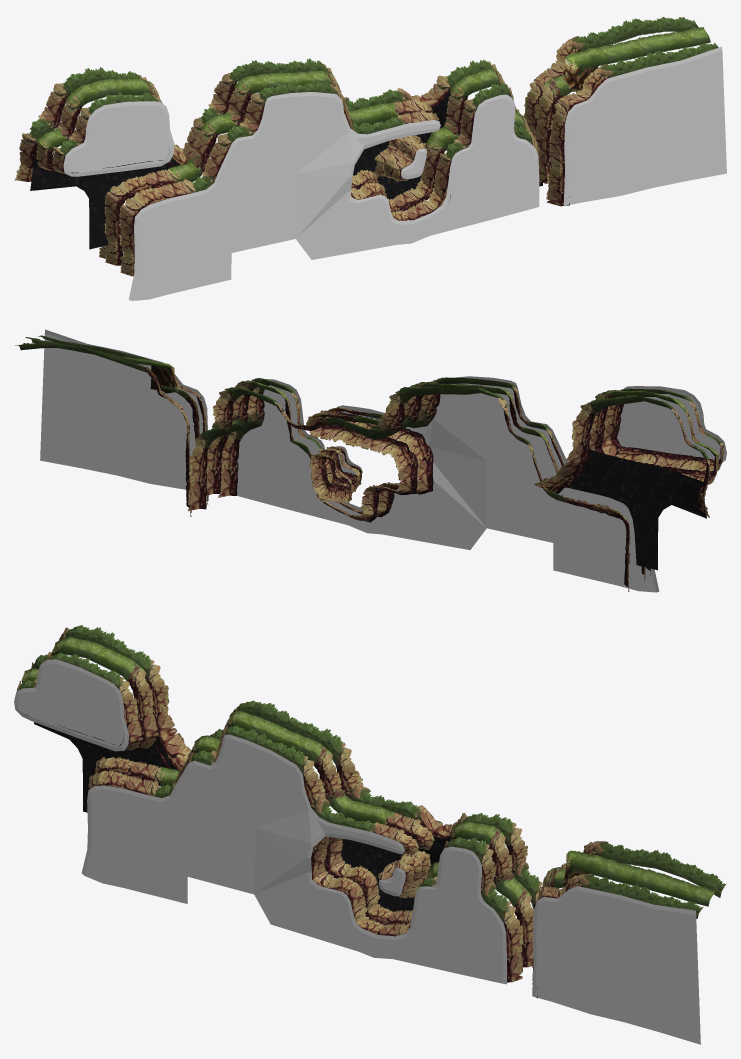
Rendered from Level 8 Pt 3.FBX.
3 renders of one model, top to bottom at view 1: azimuth 30°, elevation 25°; view 2: azimuth 150°, elevation 25°; view 3: azimuth 330°, elevation 25°, orthographic. The views are drawn at different scales.
Visible parts, largest first — view 1: Black Pt 3 Level 8, Grass Pt 3, Grass Pt 3 FG, Grass Pt 3 BG, Black Pt 3 Level 8_2, Rock BG Pt 3, Rock BG Pt 3 _2, Cliff Pt 3; view 2: Black Pt 3 Level 8, Grass Pt 3 BG, Grass Pt 3, Grass Pt 3 FG, Rock BG Pt 3, Black Pt 3 Level 8_2, Cliff Pt 3; view 3: Black Pt 3 Level 8, Grass Pt 3, Grass Pt 3 FG, Grass Pt 3 BG, Black Pt 3 Level 8_2, Rock BG Pt 3 _2, Rock BG Pt 3, Cliff Pt 3.
Part boxes in pixels (x1,y1,x2,y2): Black Pt 3 Level 8: (128, 46, 726, 300); Grass Pt 3: (36, 27, 710, 265); Grass Pt 3 FG: (52, 42, 718, 276); Grass Pt 3 BG: (14, 17, 698, 258); Black Pt 3 Level 8_2: (63, 101, 174, 176); Rock BG Pt 3: (30, 155, 180, 249); Rock BG Pt 3 _2: (353, 90, 450, 199); Cliff Pt 3: (562, 48, 598, 92); Black Pt 3 Level 8: (40, 329, 659, 592); Grass Pt 3 BG: (15, 342, 710, 591); Grass Pt 3: (25, 337, 719, 581); Grass Pt 3 FG: (38, 335, 723, 575); Rock BG Pt 3: (566, 449, 706, 570); Black Pt 3 Level 8_2: (617, 386, 726, 461); Cliff Pt 3: (144, 359, 178, 393); Black Pt 3 Level 8: (81, 734, 700, 1044); Grass Pt 3: (21, 636, 715, 967); Grass Pt 3 FG: (17, 652, 703, 998); Grass Pt 3 BG: (31, 625, 726, 908); Black Pt 3 Level 8_2: (14, 659, 129, 751); Rock BG Pt 3 _2: (338, 817, 467, 912); Rock BG Pt 3: (34, 722, 177, 812); Cliff Pt 3: (562, 850, 596, 887).
Size of what is drawn, in the model's own units: 13038 by 1148 by 4285.
Materials: 4 (4 with a texture image).
